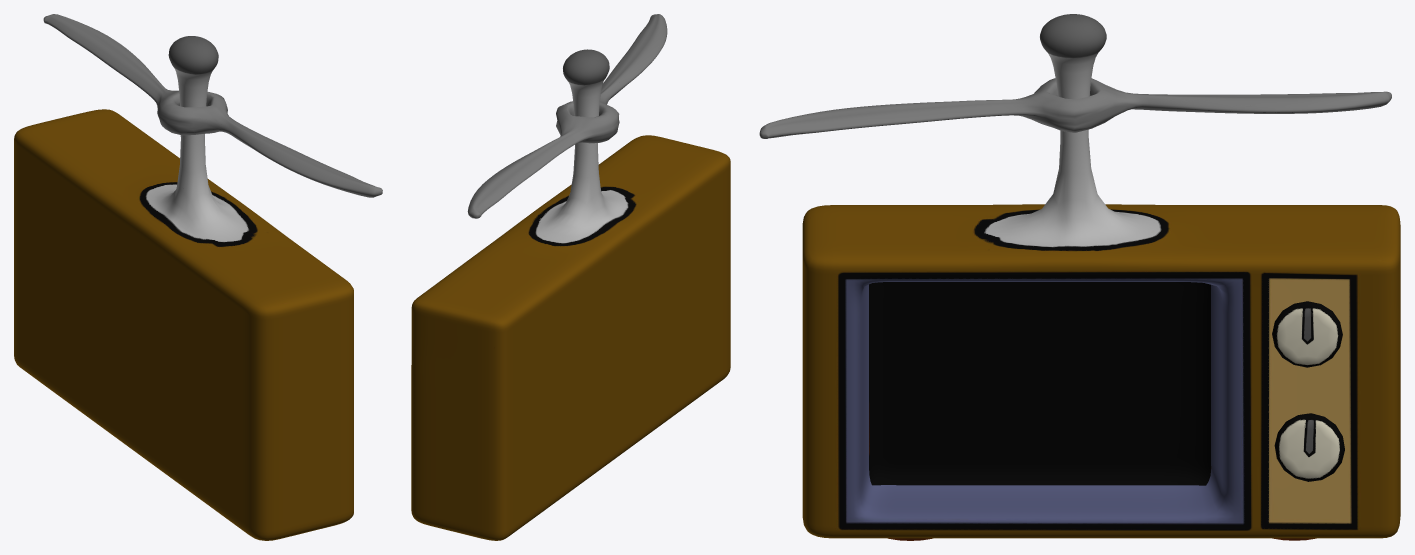
3 renders of one model, left to right at view 1: azimuth 30°, elevation 25°; view 2: azimuth 150°, elevation 25°; view 3: azimuth 270°, elevation 25°, orthographic. The views are drawn at different scales.
Visible parts, largest first — view 1: Tv2, propellers; view 2: Tv2, propellers; view 3: Tv2, propellers, BottomDial, TopDial.
Part boxes in pixels (left/top/right/bottom): Tv2: left=14, top=36, right=353, bottom=540; propellers: left=43, top=14, right=382, bottom=197; Tv2: left=411, top=49, right=730, bottom=540; propellers: left=467, top=14, right=667, bottom=218; Tv2: left=802, top=14, right=1400, bottom=540; propellers: left=759, top=78, right=1391, bottom=138; BottomDial: left=1274, top=413, right=1344, bottom=481; TopDial: left=1272, top=301, right=1342, bottom=367.
Bounding box in the file's own units: 1.03 × 3.65 × 4.11.
3 materials, 3 textured.
